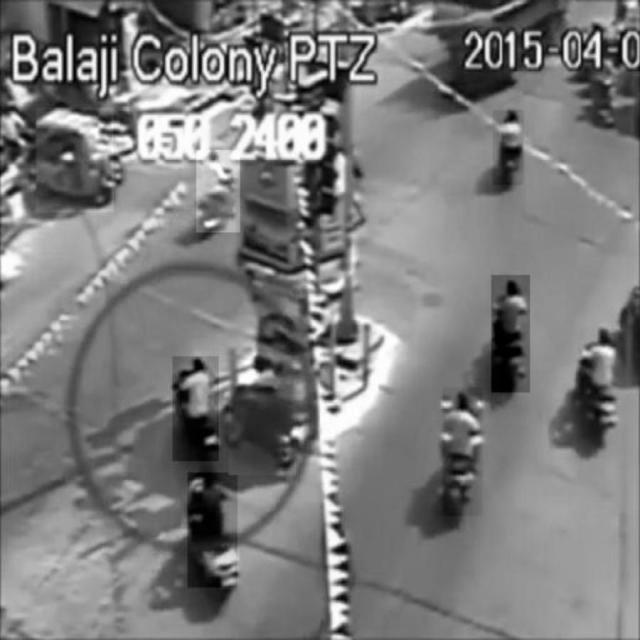vehicle: (229, 356, 296, 476), (37, 108, 114, 212), (188, 473, 238, 587), (442, 387, 483, 515), (173, 357, 219, 461), (491, 275, 529, 393), (579, 329, 617, 445), (197, 150, 241, 233), (493, 111, 523, 185)
